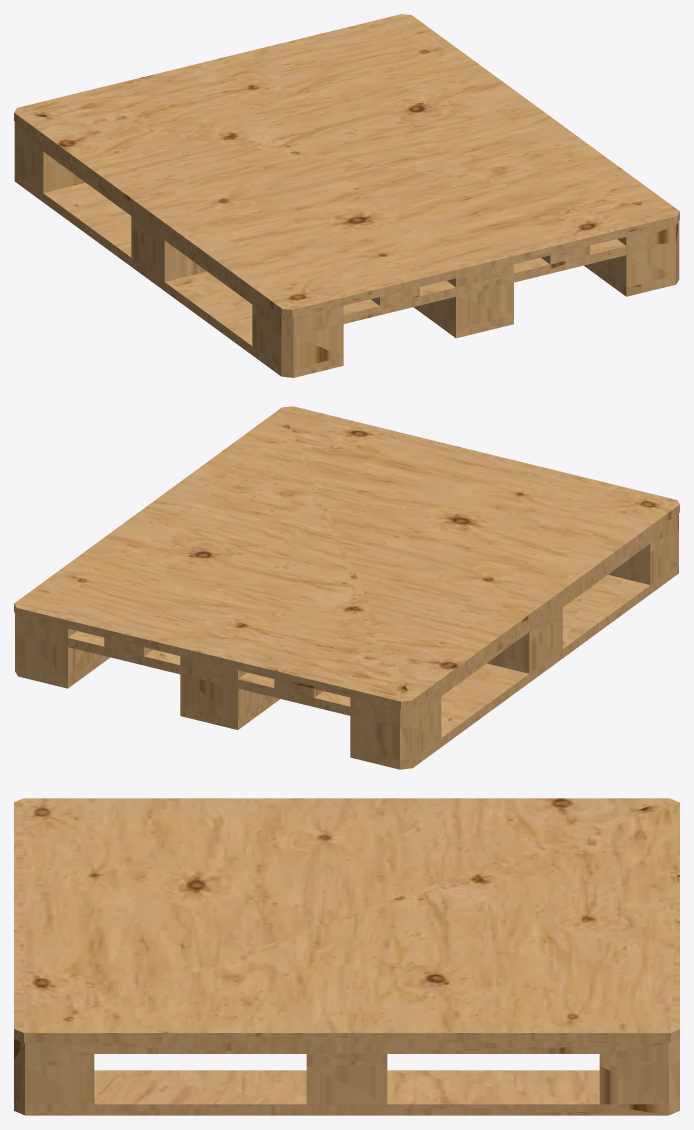
File: wooden-pallet-final.glb
3 views of the same model, one above another, from view 1: azimuth 30°, elevation 25°; view 2: azimuth 150°, elevation 25°; view 3: azimuth 270°, elevation 25° (orthographic). The views are drawn at different scales.
Parts seen in each view (by area): view 1: Mesh_Mesh_head_geo.001_lambert2SG.001; view 2: Mesh_Mesh_head_geo.001_lambert2SG.001; view 3: Mesh_Mesh_head_geo.001_lambert2SG.001.
Boxes of the visible parts, box(x1,y1,x2,y2) form: Mesh_Mesh_head_geo.001_lambert2SG.001: box(14, 14, 679, 377); Mesh_Mesh_head_geo.001_lambert2SG.001: box(14, 406, 679, 769); Mesh_Mesh_head_geo.001_lambert2SG.001: box(14, 798, 679, 1115).
Size of the model in its own units: 1 by 0.164 by 1.2.
Materials: 1 (1 with a texture image).
